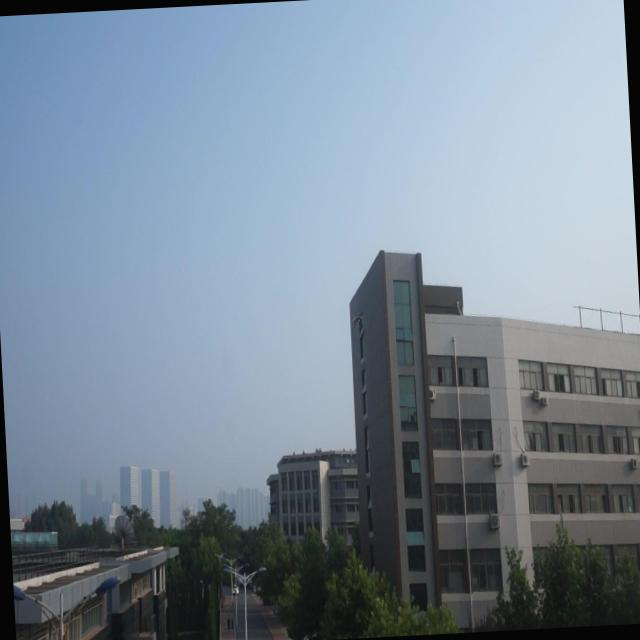drone: (349, 312, 362, 327)
